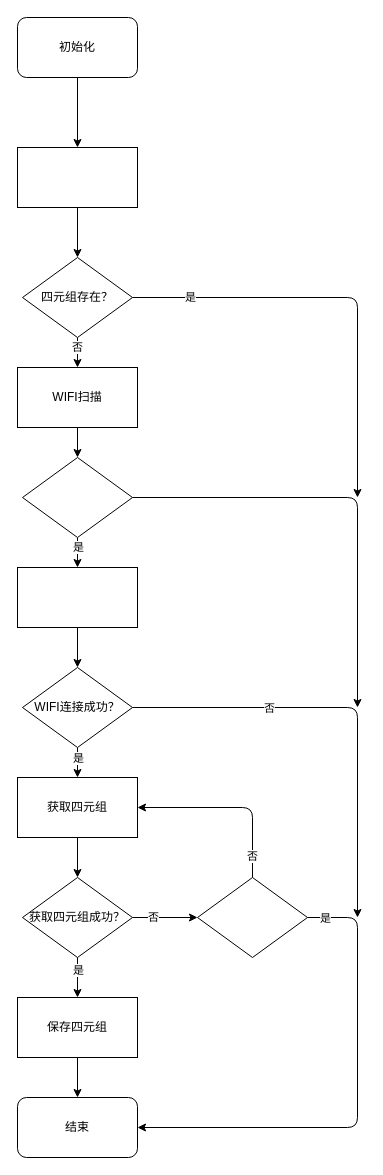
This 383x1175 diagram has some shape labels left out. Each missing label, with the box of its shape:
烧录WIFI存在？: (22, 456, 132, 538)
系统和程序启动: (16, 146, 138, 208)
获取四元组超时？: (196, 876, 308, 958)
连接烧录WIFI: (16, 566, 138, 628)
